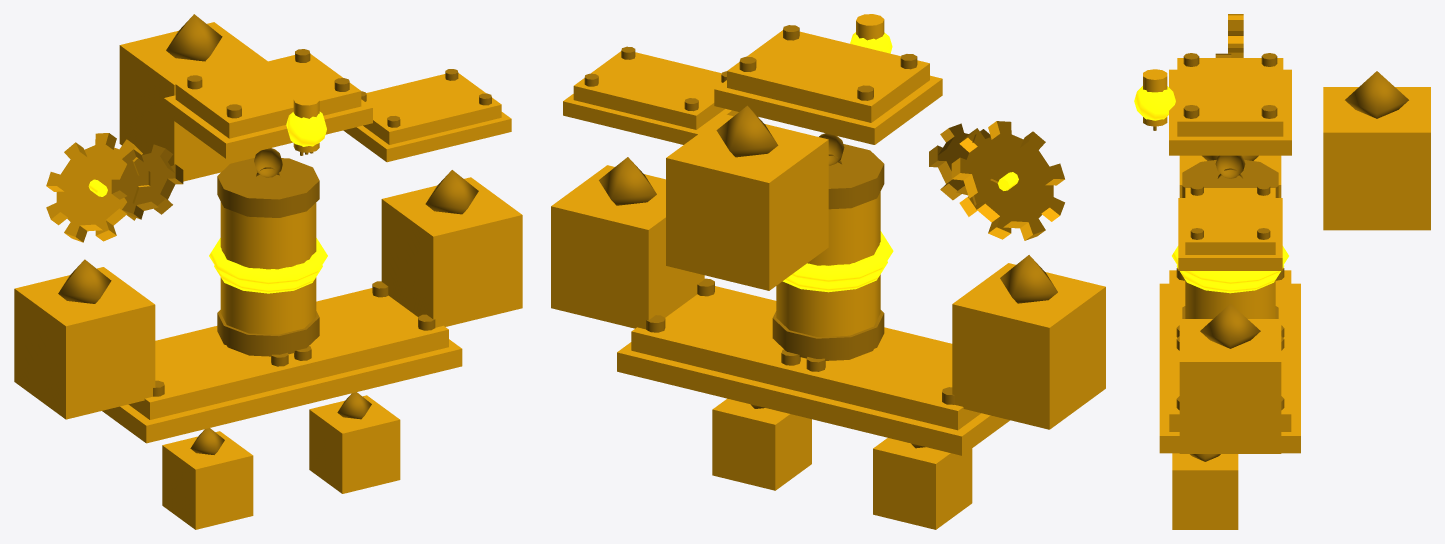
File: golem_054.glb
3 views of the same model, side by side, from view 1: azimuth 30°, elevation 25°; view 2: azimuth 150°, elevation 25°; view 3: azimuth 270°, elevation 25° (orthographic). The views are drawn at different scales.
Parts seen in each view (by area): view 1: Body, Detail, Glow; view 2: Body, Detail, Glow; view 3: Body, Detail, Glow.
Part boxes in pixels (x1=…): Body: x1=14, y1=22, x2=522, y2=529; Detail: x1=58, y1=14, x2=491, y2=454; Glow: x1=88, y1=111, x2=327, y2=293; Body: x1=551, y1=14, x2=1105, y2=529; Detail: x1=584, y1=25, x2=1057, y2=448; Glow: x1=782, y1=32, x2=1018, y2=292; Body: x1=1143, y1=14, x2=1430, y2=529; Detail: x1=1153, y1=53, x2=1408, y2=461; Glow: x1=1134, y1=86, x2=1288, y2=293.
Bounding box in the file's own units: 1.37 × 1.19 × 0.7794.
